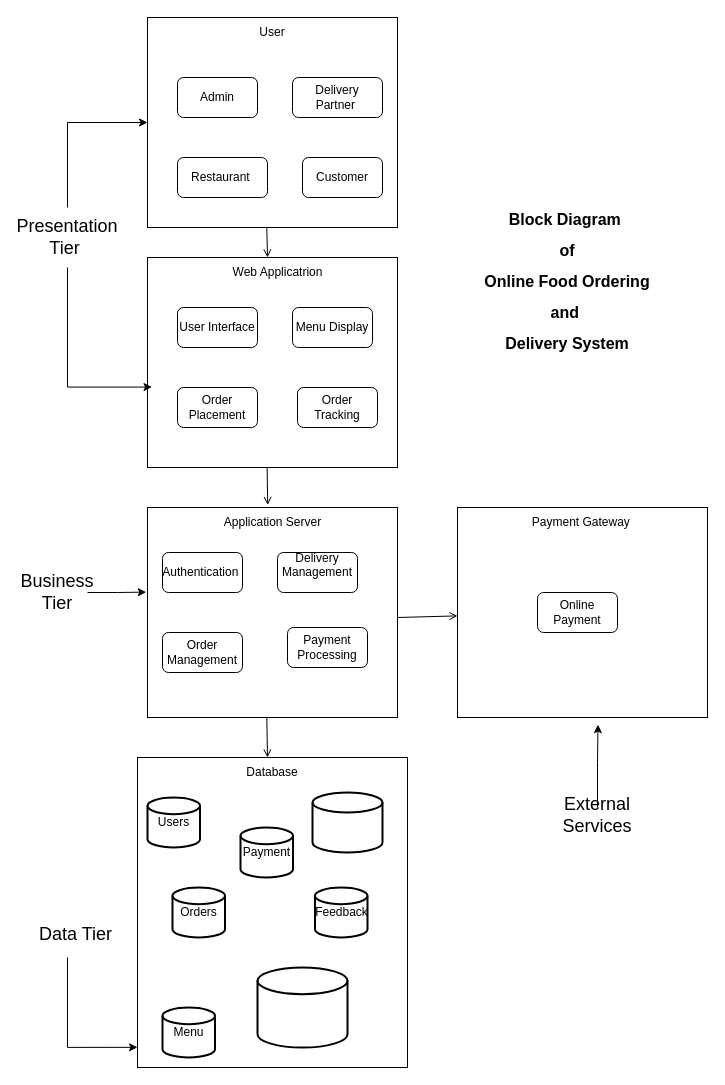
Image size: 725x1085. Some labels were removed from this diagram. The box of each missing label's shape, as (x1, y1, x2, y2) in pixels:
Delivery partenr: (256, 966, 348, 1048)
Restaurants: (311, 791, 383, 853)
